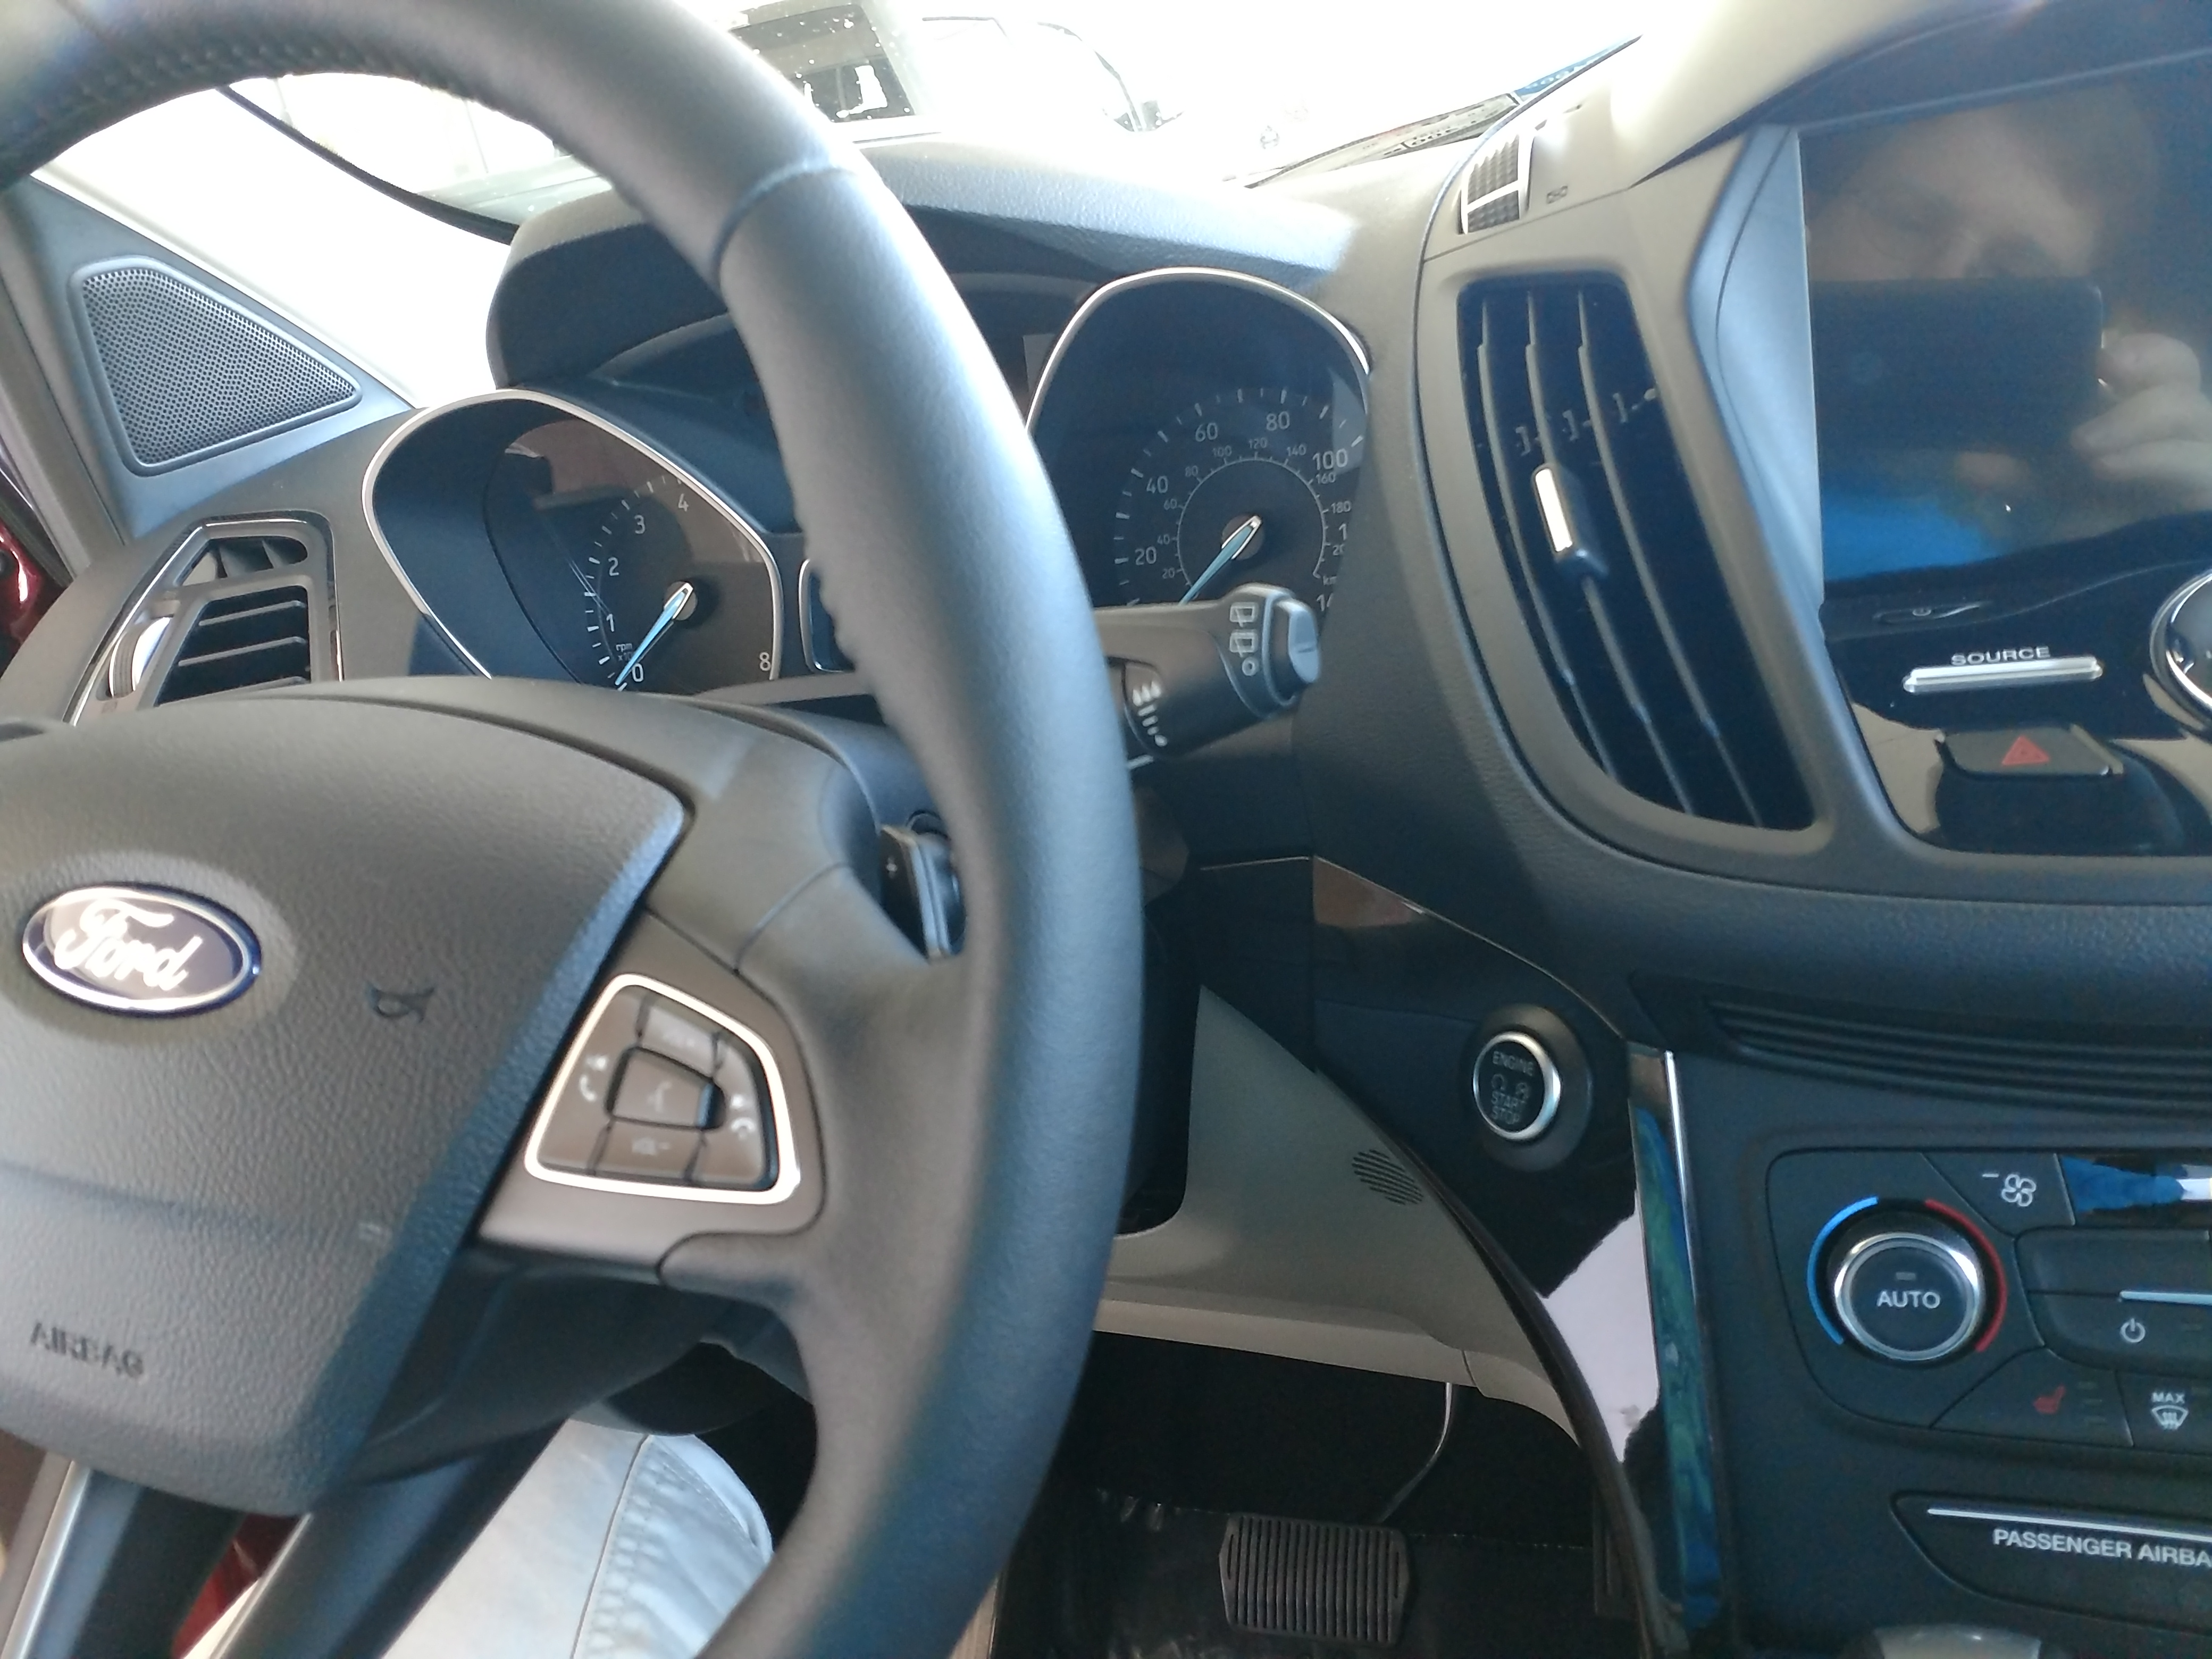Ford: (9, 873, 308, 1025)
